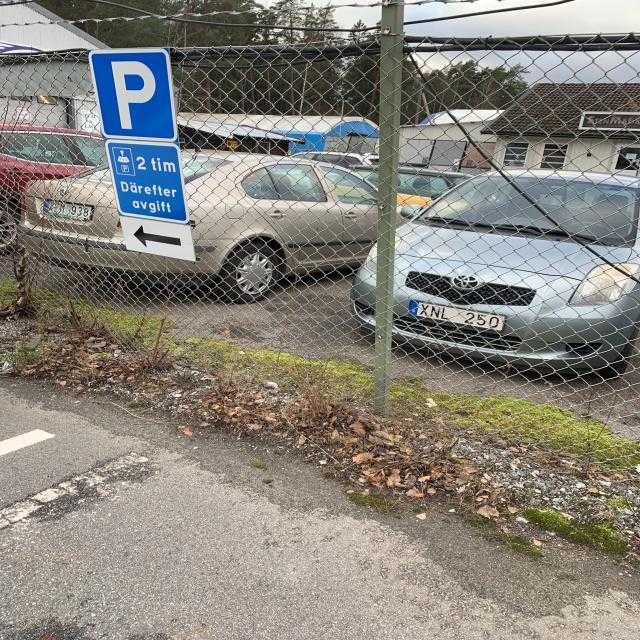psign: (88, 49, 177, 141)
